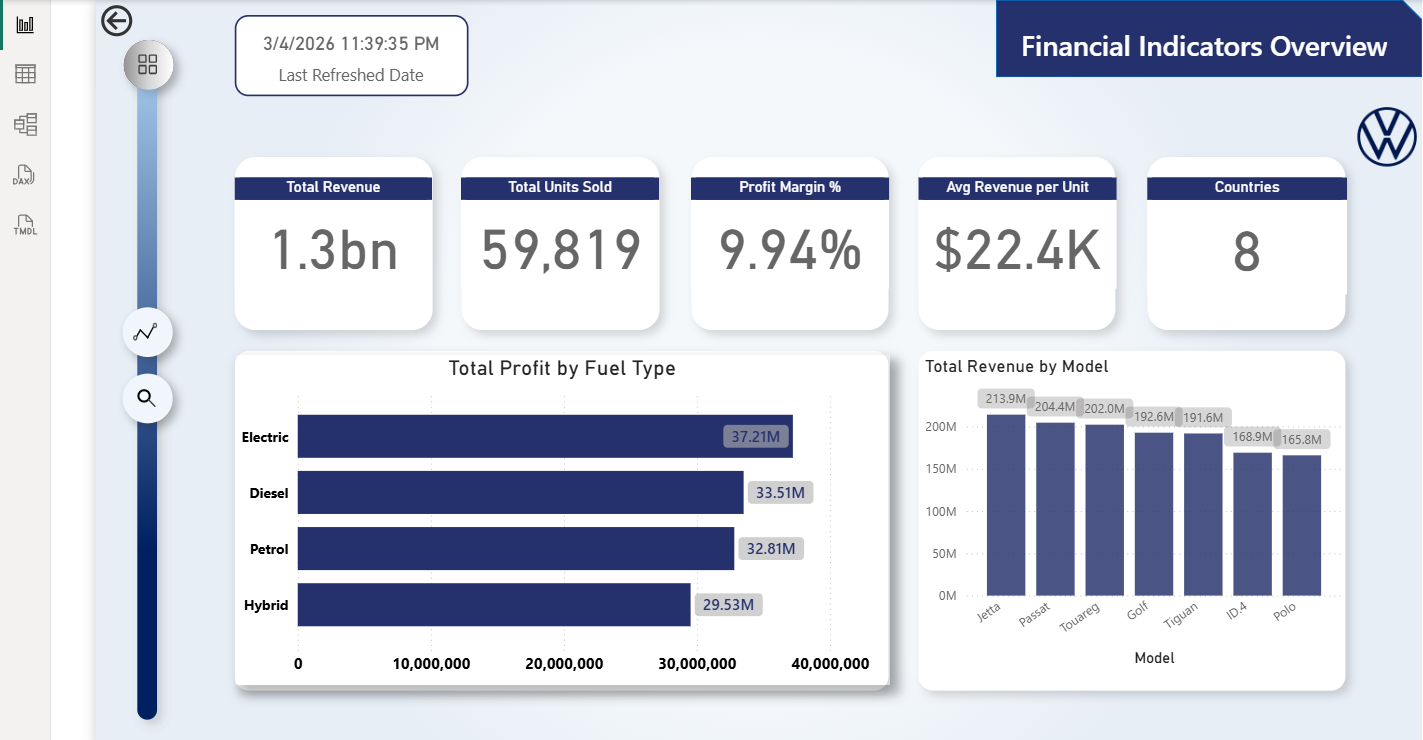

The dashboard page shown, as its layout file describes it:
{"tool":"powerbi","page":{"name":"Financial Indicators Overview","canvas":[1280,720],"ordinal":3},"visuals":[{"type":"card","title":"Total Revenue","fields":{"Values":["Sum(Sales Fact Table.Revenue_USD)"]},"box":[133.9,171.3,190.6,107.4],"z":0},{"type":"card","title":"Total Units Sold","fields":{"Values":["Sales Fact Table.Total Units"]},"box":[352.5,171.2,191.2,107.5],"z":1000},{"type":"card","title":"Profit Margin %","fields":{"Values":["Sales Fact Table.Profit Margin %"]},"box":[573.8,171.2,191.2,107.5],"z":2000},{"type":"card","title":"Avg Revenue per Unit","fields":{"Values":["Sales Fact Table.Avg Revenue per Unit"]},"box":[793.8,171.2,191.2,107.5],"z":3000},{"type":"actionButton","box":[0,0,45,40],"z":4000},{"type":"columnChart","title":"Total Revenue by Model","fields":{"Y":["Sales Fact Table.Total Revenue"],"Category":["Model.Model"]},"box":[795,342.6,412.6,305.2],"z":5000},{"type":"shape","box":[22.9,295.6,50.7,47.1],"z":6000},{"type":"shape","box":[22.9,359.5,50.7,47.1],"z":7000},{"type":"shape","box":[868.6,0,411.4,74.8],"z":8000},{"type":"card","title":"Countries","fields":{"Values":["Count(Country.Country)"]},"box":[1014.3,171.4,192.9,112.9],"z":9000},{"type":"image","box":[1212.5,92.9,67.6,78.4],"z":10000},{"type":"clusteredBarChart","title":"Total Profit by Fuel Type","fields":{"Category":["FuelType.Fuel_Type"],"Y":["Sum(Sales Fact Table.Profit_USD)"]},"box":[133.9,342.6,632.2,318.5],"z":11000},{"type":"card","title":"Last Refreshed","fields":{"Values":["Min(Last Refreshed.LocalTime)"]},"box":[133.9,14.5,225.6,78.4],"z":12000}]}

Visuals, with their boxes on the page's 1280x720 design canvas (x1, y1, x2, y2). These are canvas units, not pixel positions in the 1423x740 screenshot, which may show the page scaled, cropped or inside an application window:
"Total Revenue" card: (left=134, top=171, right=324, bottom=279)
"Total Units Sold" card: (left=352, top=171, right=544, bottom=279)
"Profit Margin %" card: (left=574, top=171, right=765, bottom=279)
"Avg Revenue per Unit" card: (left=794, top=171, right=985, bottom=279)
actionButton: (left=0, top=0, right=45, bottom=40)
"Total Revenue by Model" columnChart: (left=795, top=343, right=1208, bottom=648)
shape: (left=23, top=296, right=74, bottom=343)
shape: (left=23, top=360, right=74, bottom=407)
shape: (left=869, top=0, right=1280, bottom=75)
"Countries" card: (left=1014, top=171, right=1207, bottom=284)
image: (left=1212, top=93, right=1280, bottom=171)
"Total Profit by Fuel Type" clusteredBarChart: (left=134, top=343, right=766, bottom=661)
"Last Refreshed" card: (left=134, top=14, right=360, bottom=93)
